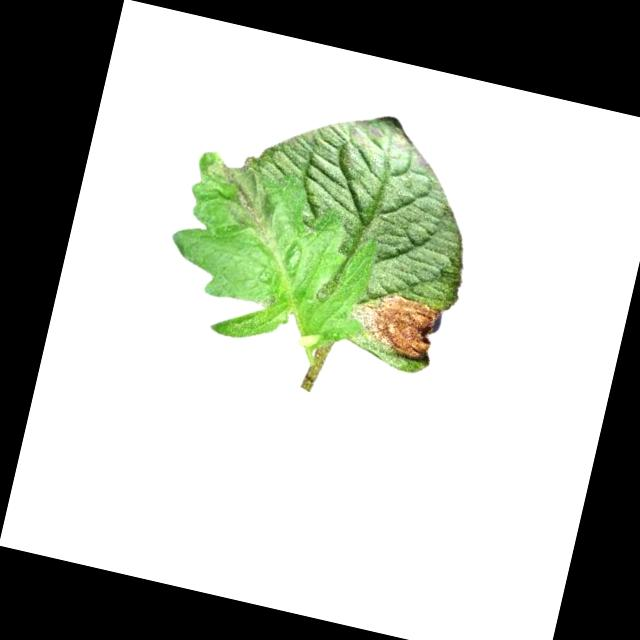Late_blight: (349, 285, 446, 366), (196, 153, 284, 237)
